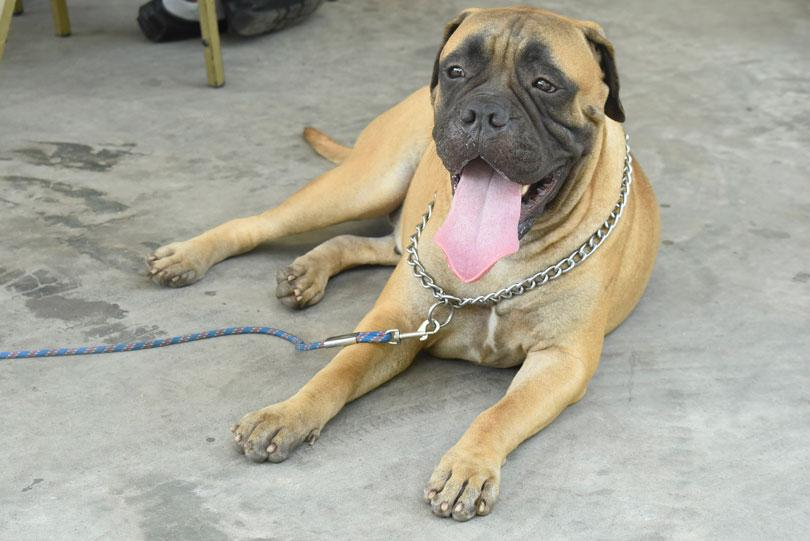Dog: (139, 4, 665, 532)
